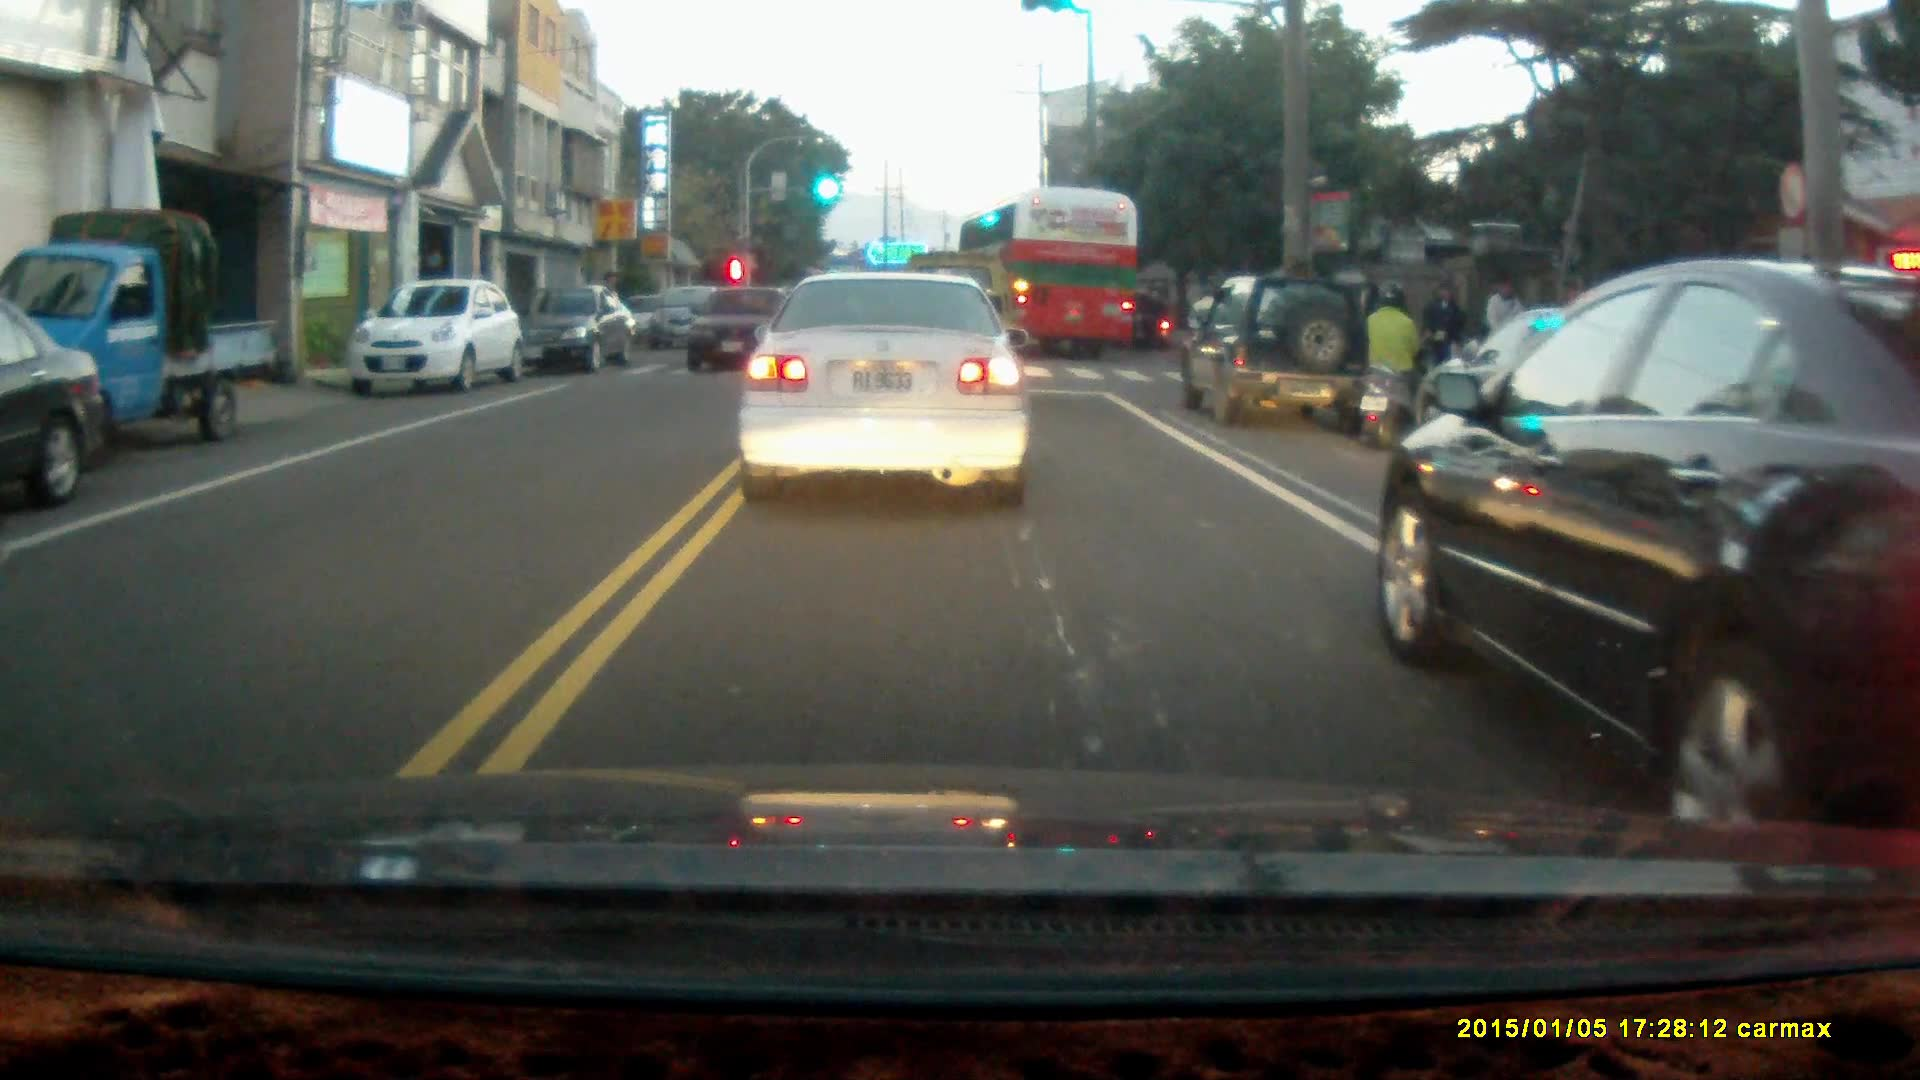pedestrian: (1481, 273, 1530, 385), (1420, 276, 1465, 396)
rider: (1355, 282, 1427, 449), (1115, 293, 1176, 350)
vehicle: (1382, 257, 1920, 834), (731, 267, 1033, 506), (1, 209, 278, 449), (1408, 302, 1731, 465), (1181, 275, 1380, 433), (962, 188, 1140, 359), (1, 299, 114, 515), (351, 282, 518, 397), (524, 284, 643, 374), (690, 281, 787, 379), (646, 286, 734, 358)
